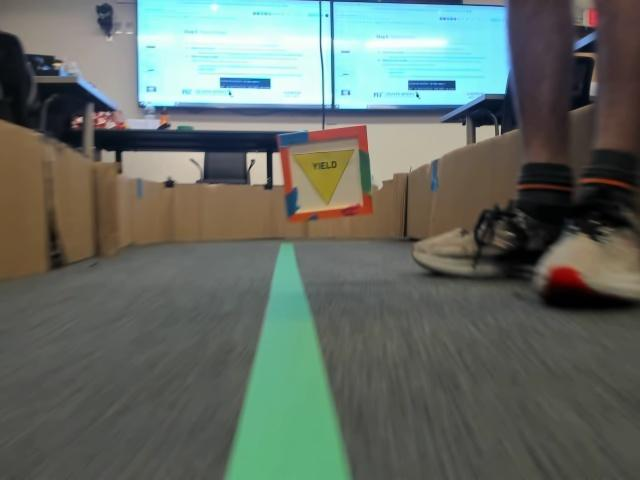Yield: (293, 153, 351, 204)
